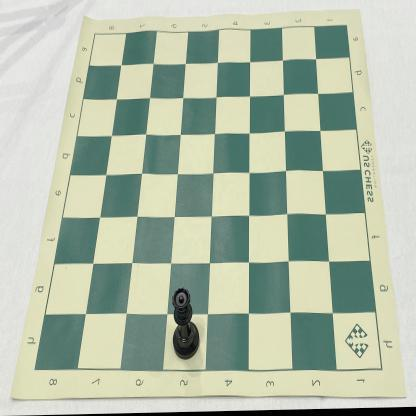black-queen: (172, 287, 200, 361)
